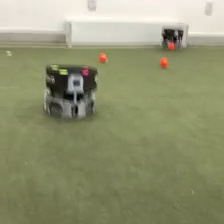ball: (159, 56, 169, 68), (98, 52, 108, 62), (166, 40, 175, 50)
goal: (64, 17, 189, 50)
robot: (40, 61, 99, 121), (160, 26, 184, 51)
